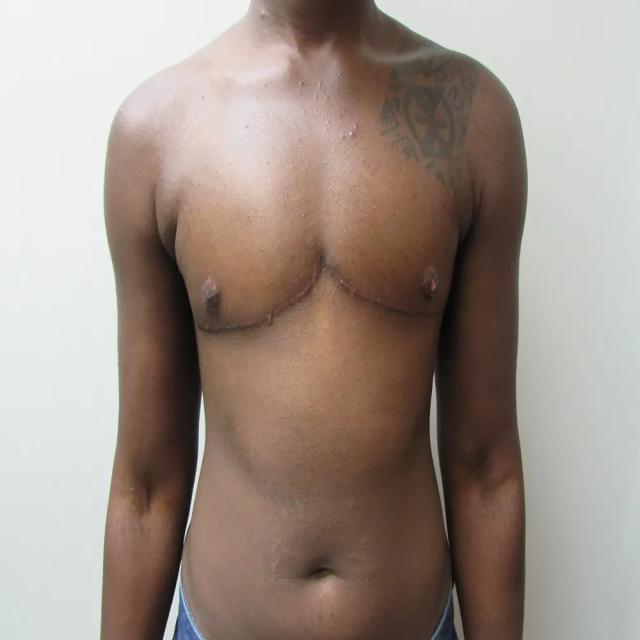Seno herido: (169, 140, 320, 357), (324, 126, 474, 342)
